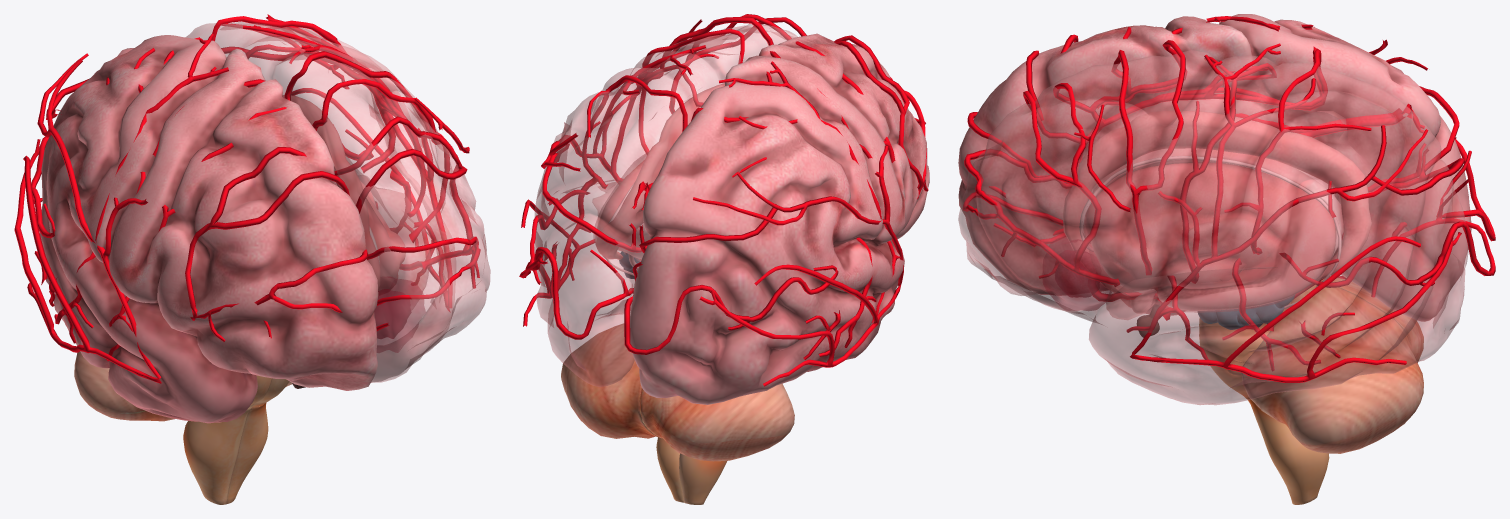
The picture shows the model from 3 angles, left to right: view 1: azimuth 30°, elevation 25°; view 2: azimuth 150°, elevation 25°; view 3: azimuth 270°, elevation 25°; orthographic projection. The views are drawn at different scales.
Visible parts, largest first — view 1: brain, braindan, arteries, hemorr; view 2: brain, braindan, arteries; view 3: braindan, brain, arteries, hemorr.
Part boxes in pixels (x1,y1,x2,y2): brain: (40,35,405,504); braindan: (186,21,490,382); arteries: (14,14,480,383); hemorr: (374,277,425,352); brain: (561,33,929,504); braindan: (534,24,797,386); arteries: (519,14,928,386); braindan: (958,50,1468,405); brain: (958,14,1471,504); arteries: (962,16,1495,382); hemorr: (1043,238,1109,310).
Size of the model in its own units: 0.7621 by 0.9835 by 1.02.
Materials: 5 (2 with a texture image).
